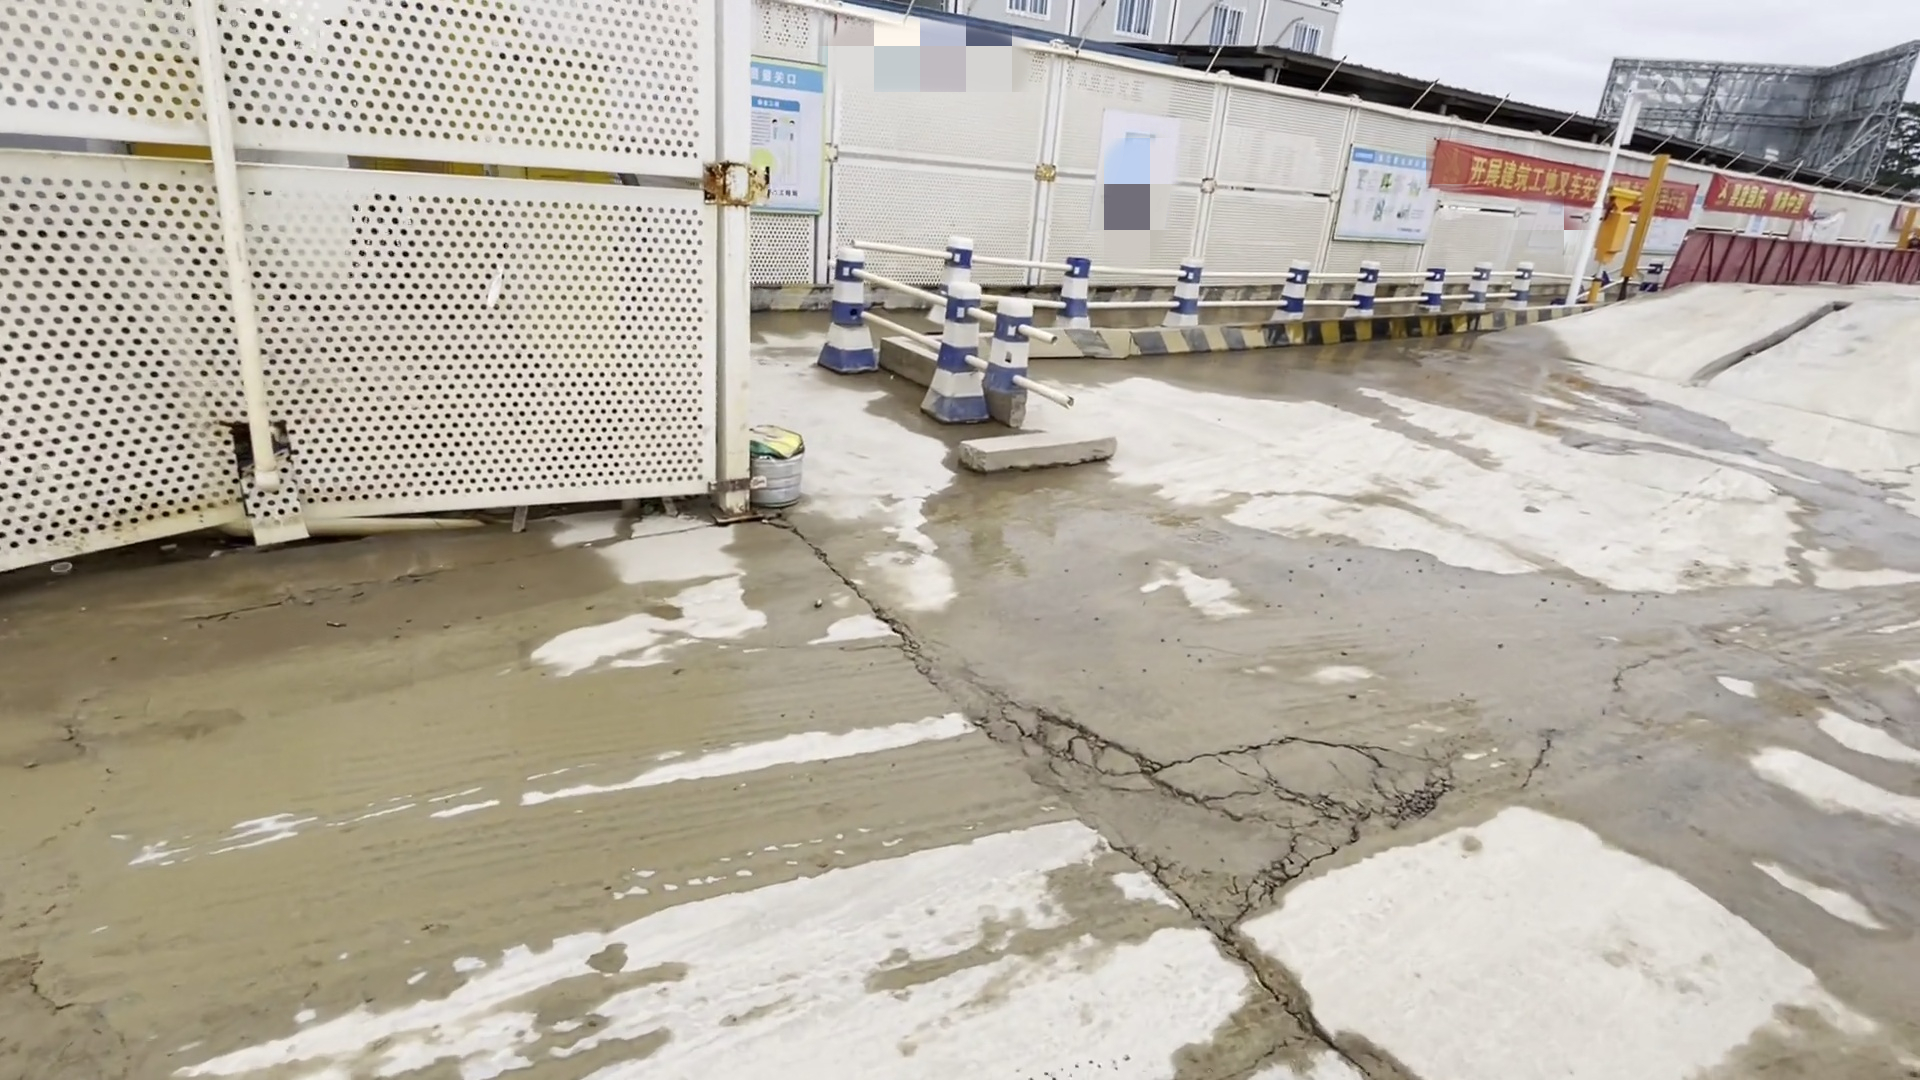fence: (1662, 233, 1919, 316)
slogan: (1429, 127, 1828, 233)
